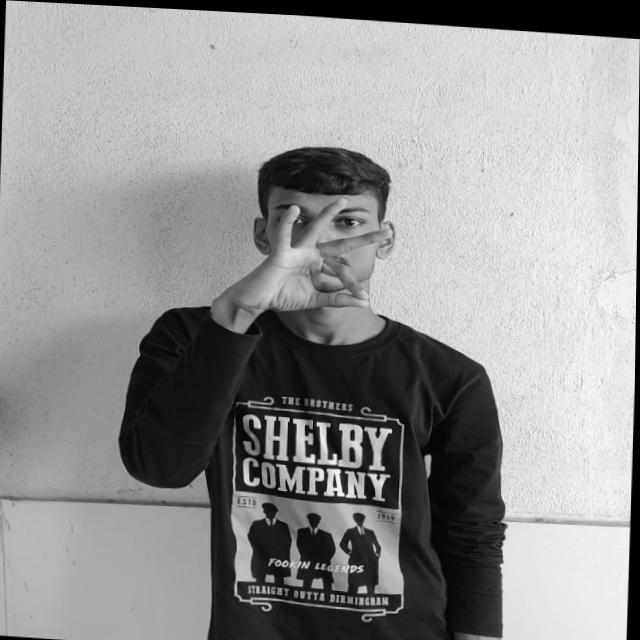Superb: (258, 190, 393, 319)
